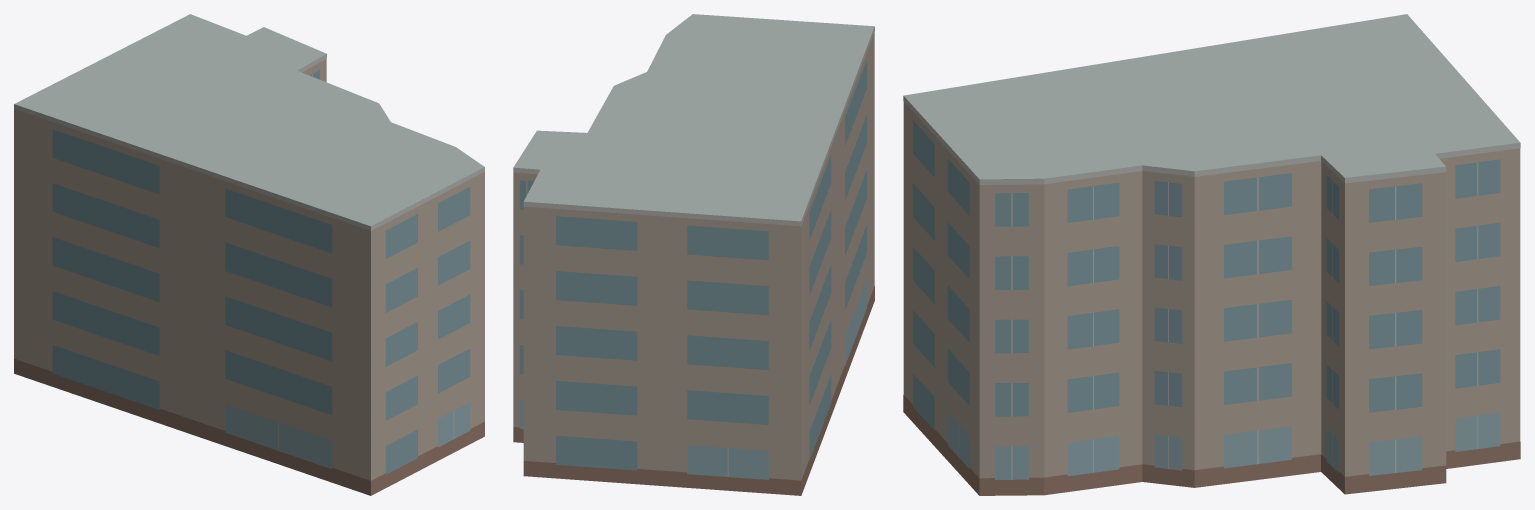
The model's file is survey-upis-32823763.glb.
3 renders of one model, left to right at view 1: azimuth 30°, elevation 25°; view 2: azimuth 150°, elevation 25°; view 3: azimuth 270°, elevation 25°, orthographic. The views are drawn at different scales.
Parts seen in each view (by area): view 1: survey-upis-32823763.tmp; view 2: survey-upis-32823763.tmp; view 3: survey-upis-32823763.tmp.
Part boxes in pixels (x1=…): survey-upis-32823763.tmp: x1=14, y1=14, x2=484, y2=495; survey-upis-32823763.tmp: x1=513, y1=14, x2=874, y2=495; survey-upis-32823763.tmp: x1=903, y1=14, x2=1520, y2=495.
Size of the model in its own units: 15.58 by 13.9 by 24.57.
